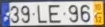3: (9, 4, 19, 24)
6: (79, 3, 91, 23)
9: (67, 3, 79, 23), (20, 4, 31, 24)
E: (47, 4, 61, 23)
L: (36, 4, 47, 24)
